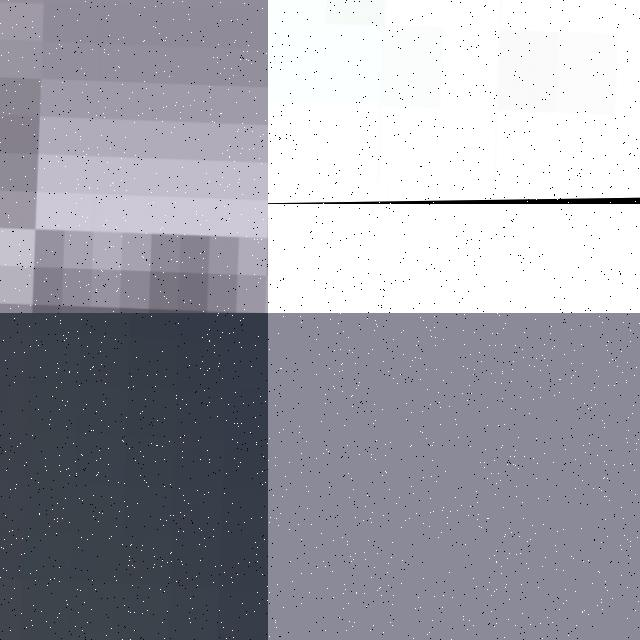0: (0, 0, 268, 313)
drone: (0, 313, 268, 640), (268, 0, 640, 204)
